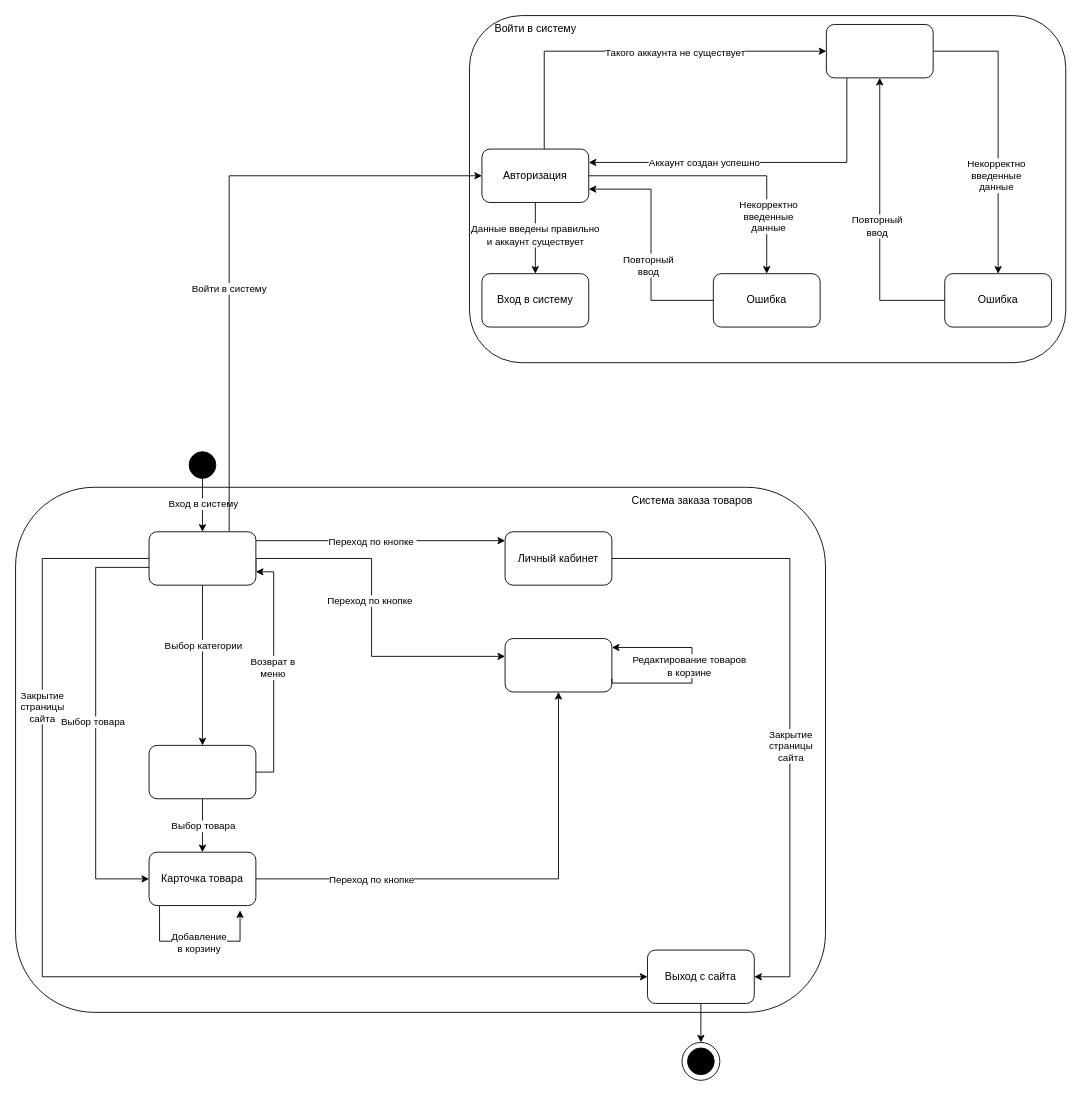
The diagram is 1081 pixels wide and 1096 high, and some of its shapes have lost their labels. The box of each missing label's shape, as (x1, y1, x2, y2) in pixels:
Главная страница: (148, 531, 256, 585)
Корзина: (504, 638, 612, 692)
Ригистрация: (825, 24, 933, 78)
Страница товаров одной категории: (148, 744, 256, 799)
